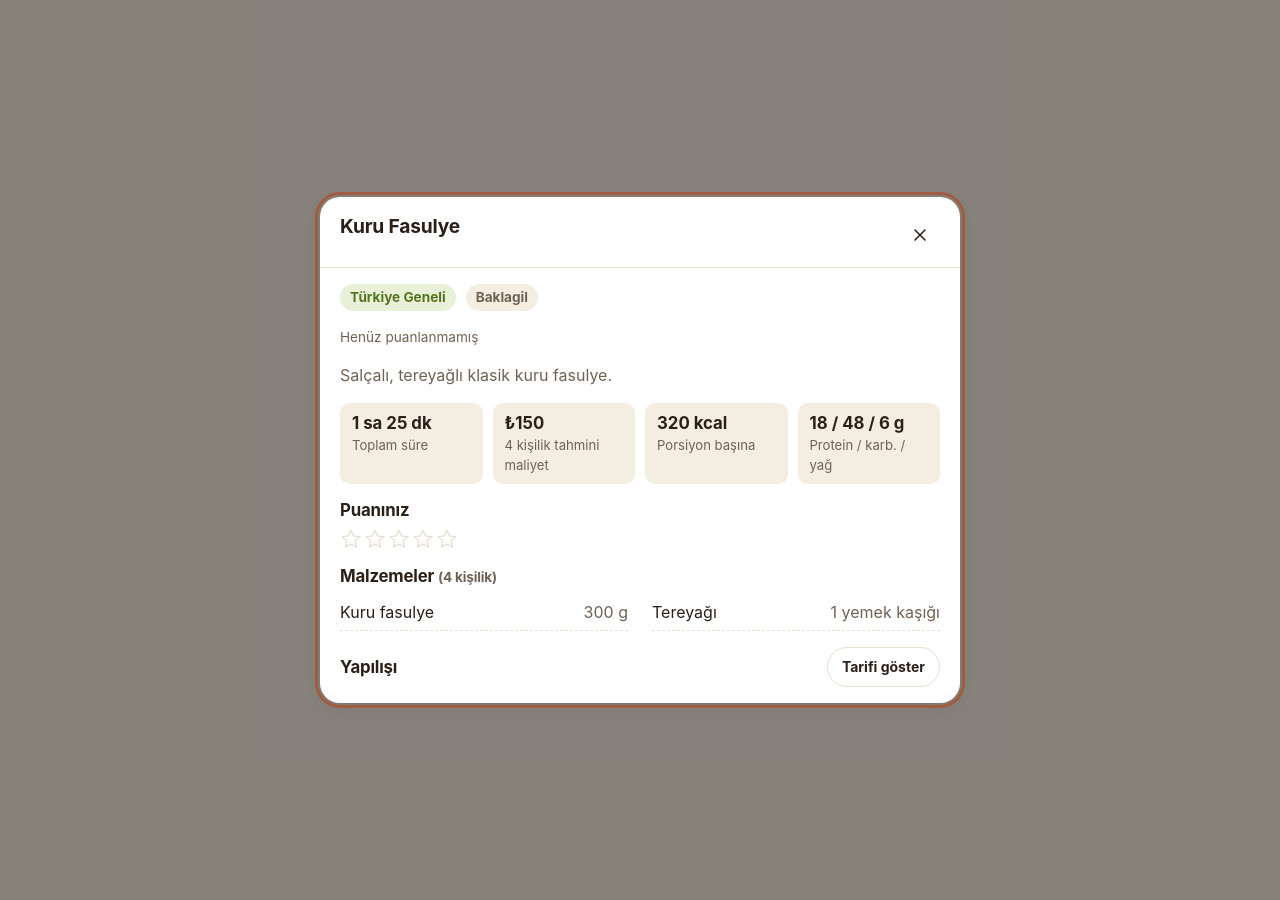
Test: DishDetail › puanlama › kendi puanınız yoksa yıldızlar boş başlar, tıklayınca kaydedilir
Click the radio button named "yıldız": (423, 539) [403,519,443,559]
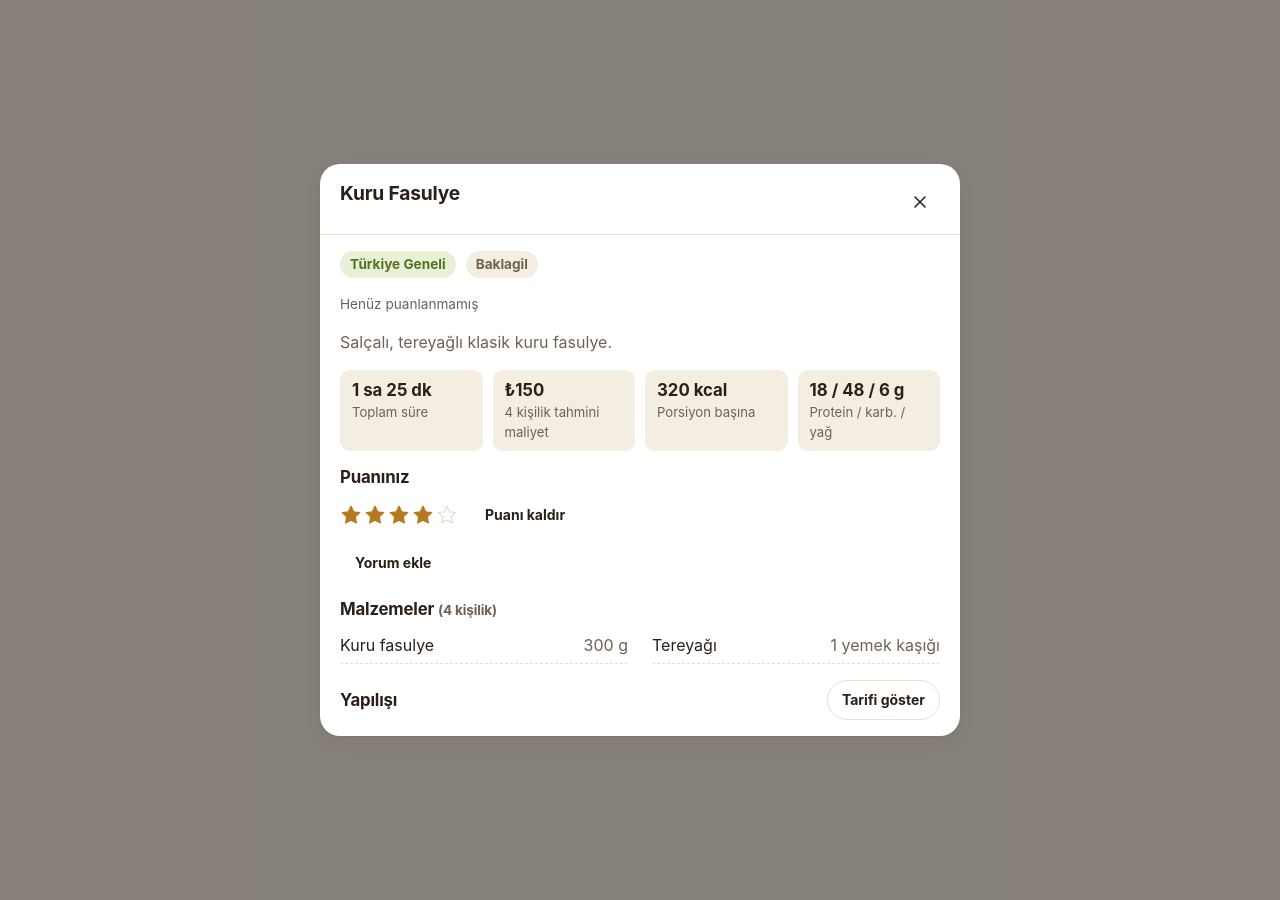
expect the button "Yorum ekle" is shown: met, box [340,543,446,583]
